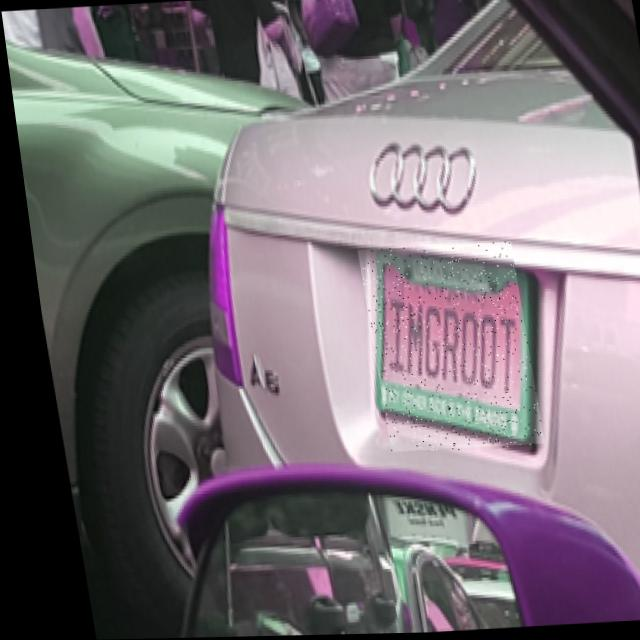license_plate: (349, 244, 532, 455)
